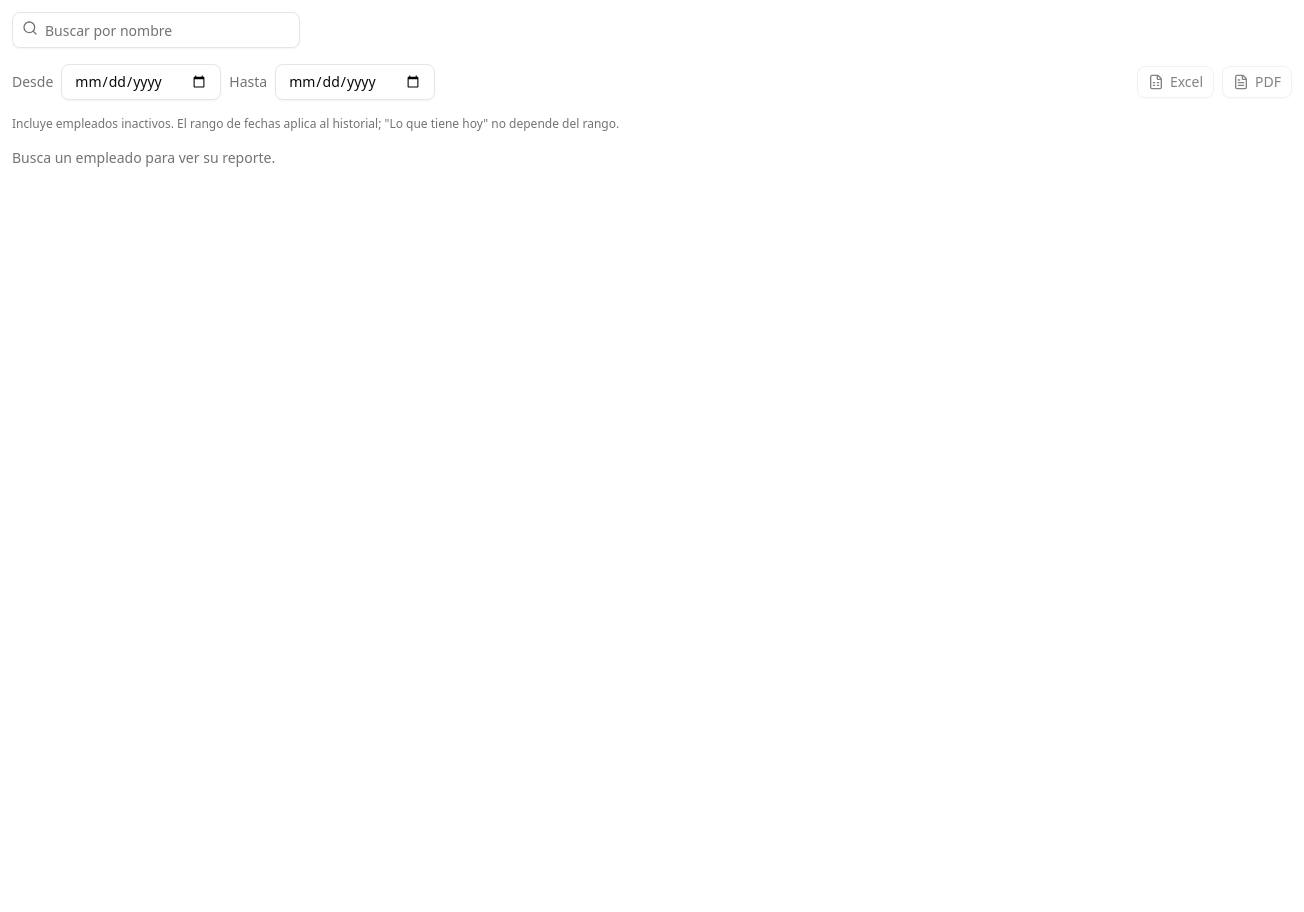
Test: EmployeeReportTab (008 US2, RN-022, RN-033) › con empleados.ver muestra documento y contacto que vienen en la respuesta
Type "Ana" into the search field named "Buscar empleado" at (156, 30), box [12, 12, 300, 48]
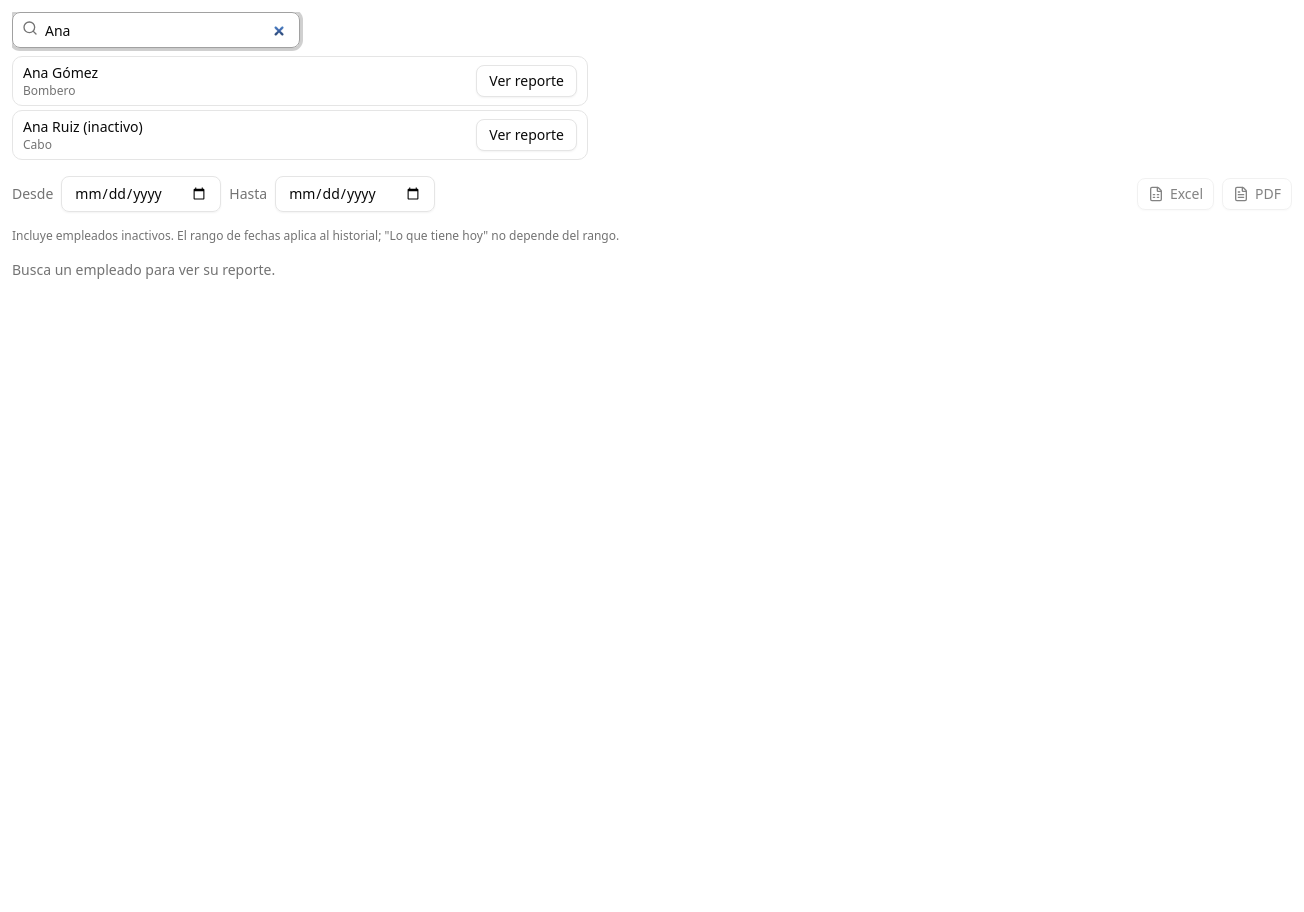
Click the button with aria-label "Ver reporte de Ana Gómez" at (527, 81), box [476, 65, 577, 97]
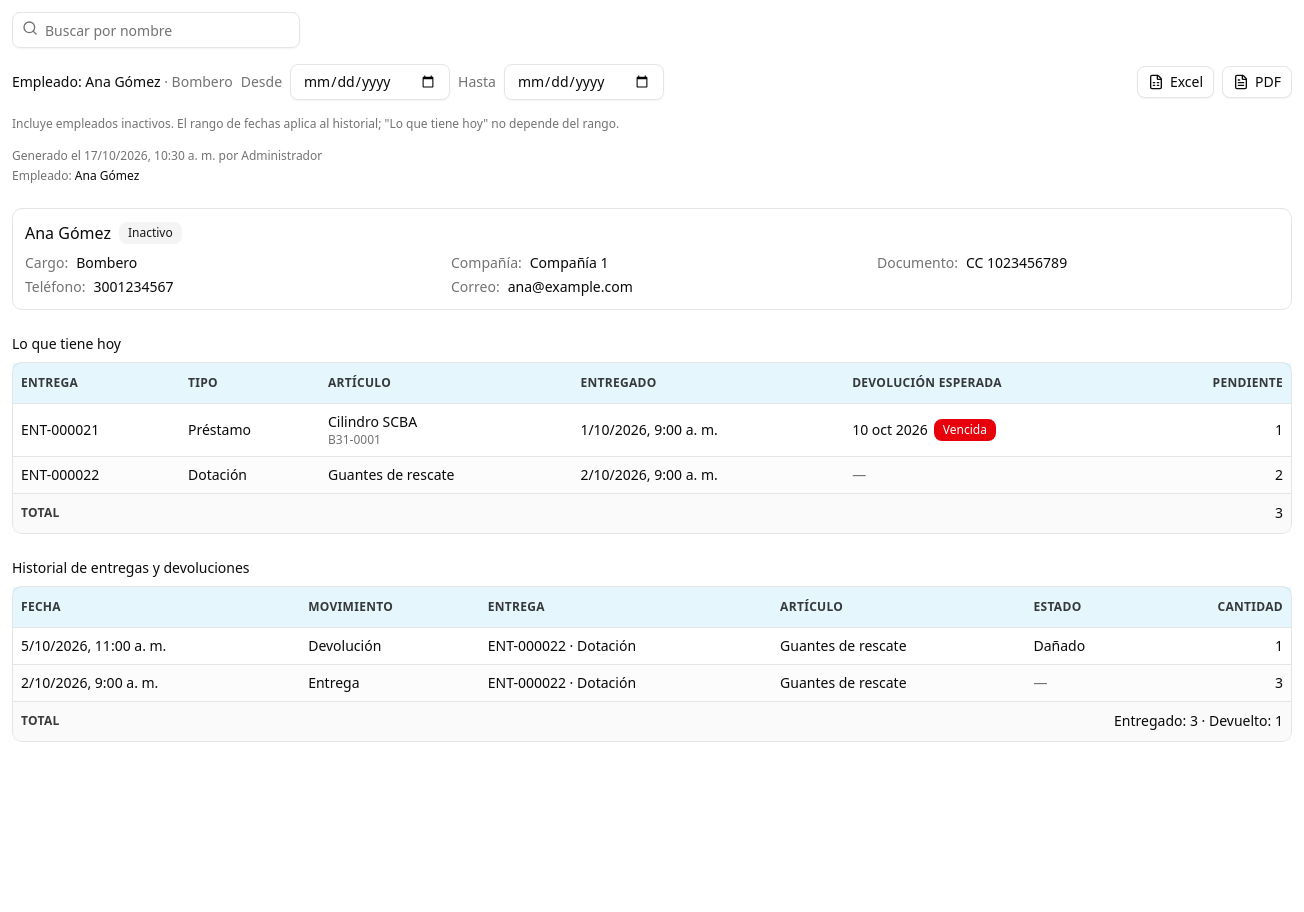
Check: the text "CC 1023456789" is shown, box [966, 253, 1067, 273]
Check: the text "3001234567" is shown, box [93, 277, 174, 297]
Check: the text "ana@example.com" is shown, box [508, 277, 633, 297]
